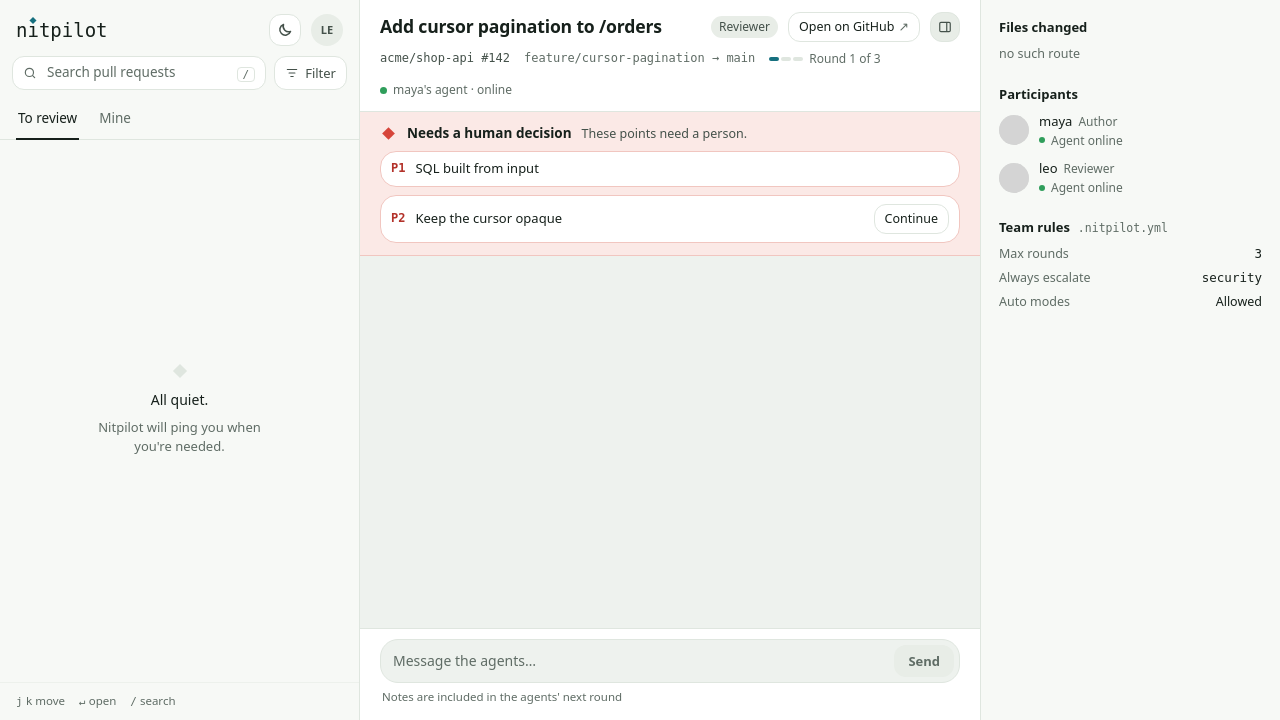
Test: the escalation banner (handoff §2 "Escalated") › lets the agents continue, and says so
Step 1. Click the button "Continue" → (911, 219), box [874, 204, 949, 234]
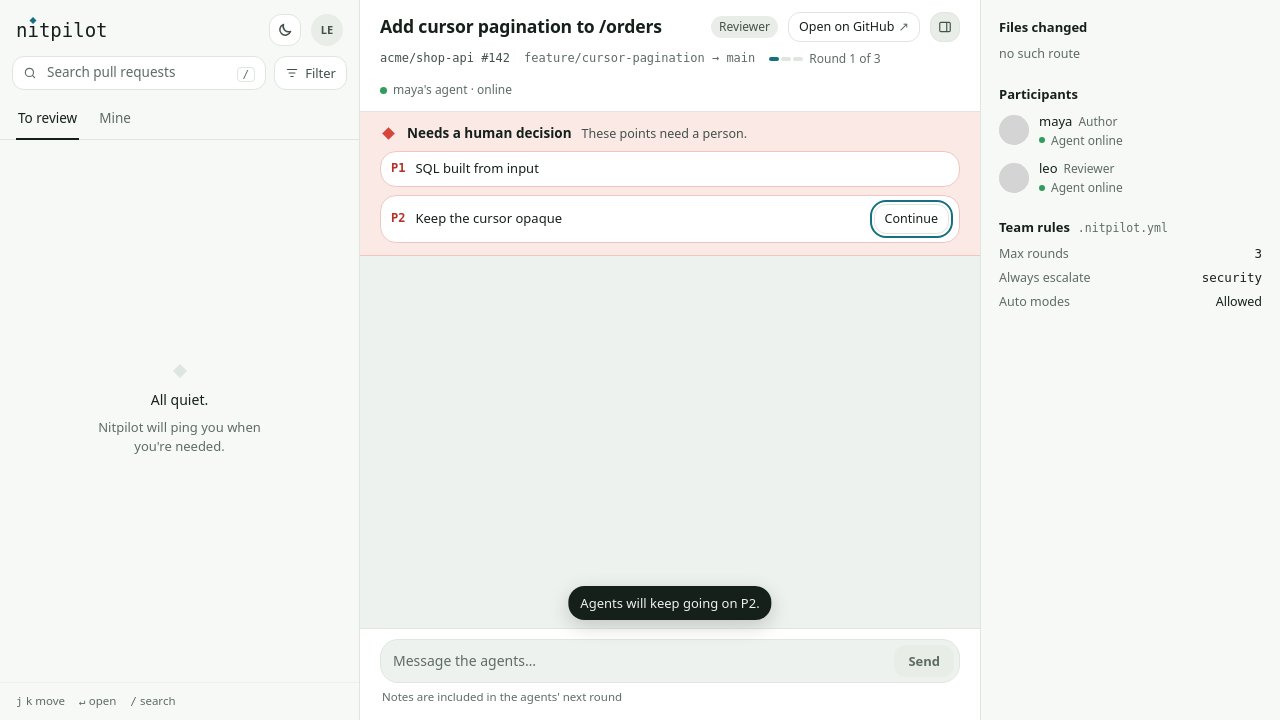
Check: the text "Agents will keep going on P2." is shown, box [568, 586, 772, 620]
